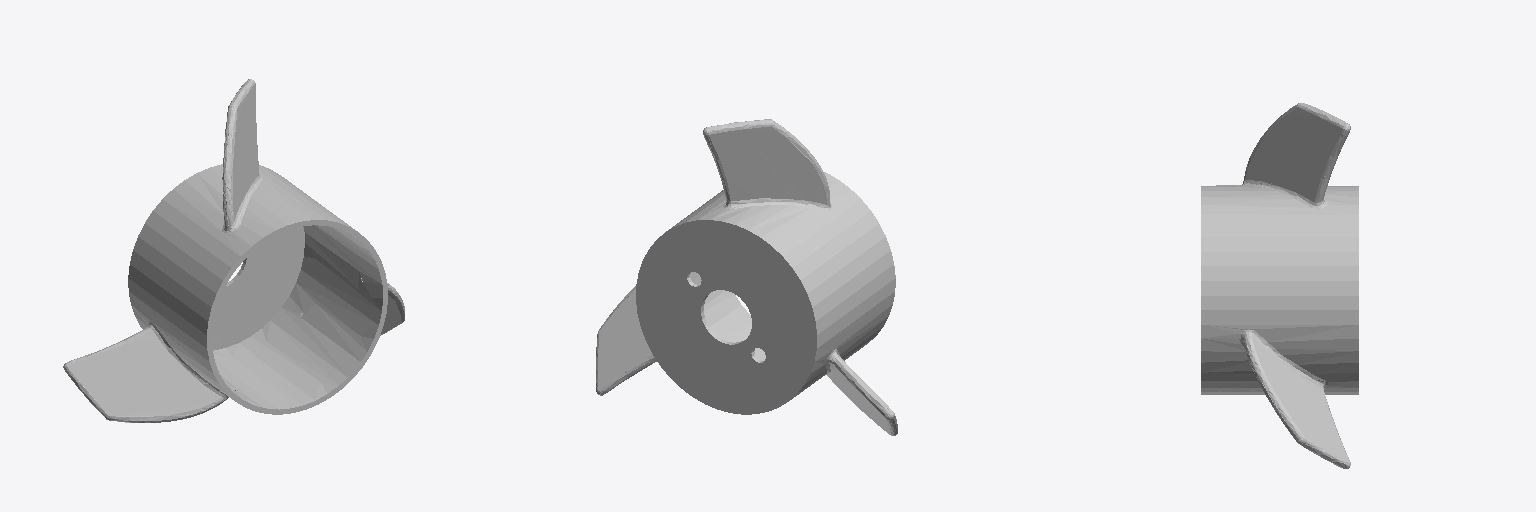
Rendered from propeller_up_left.obj.
The picture shows the model from 3 angles: view 1: azimuth 30°, elevation 25°; view 2: azimuth 150°, elevation 25°; view 3: azimuth 270°, elevation 25°; orthographic projection.
Parts seen in each view (by area): view 1: propeller_up_left; view 2: propeller_up_left; view 3: propeller_up_left.
Boxes of the visible parts, <box> form: propeller_up_left: <box>63,79,404,422</box>; propeller_up_left: <box>596,119,897,435</box>; propeller_up_left: <box>1201,103,1358,468</box>.
Size of the model in its own units: 0.0701 by 0.0623 by 0.03.